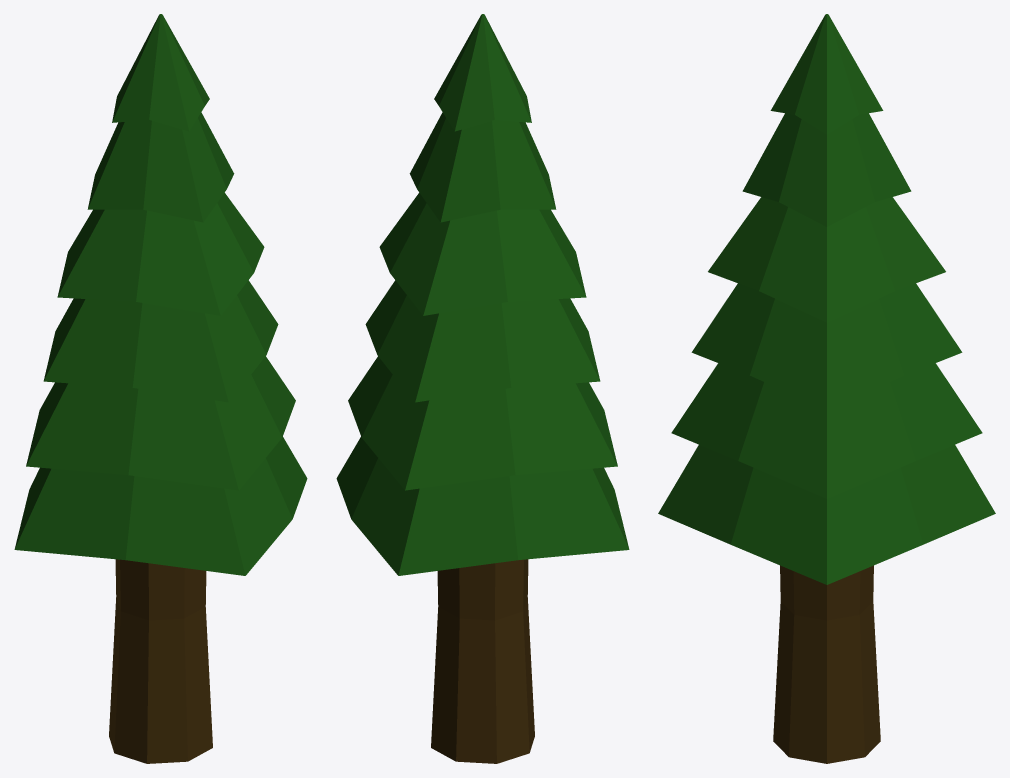
Rendered from PineTree.fbx.
3 views of the same model, side by side, from view 1: azimuth 30°, elevation 25°; view 2: azimuth 150°, elevation 25°; view 3: azimuth 270°, elevation 25° (orthographic).
Parts seen in each view (by area): view 1: Cylinder; view 2: Cylinder; view 3: Cylinder.
Part boxes in pixels (<box>): Cylinder: <box>14,14,307,763</box>; Cylinder: <box>336,14,629,763</box>; Cylinder: <box>658,14,995,763</box>.
Size of the model in its own units: 333 by 789 by 333.
